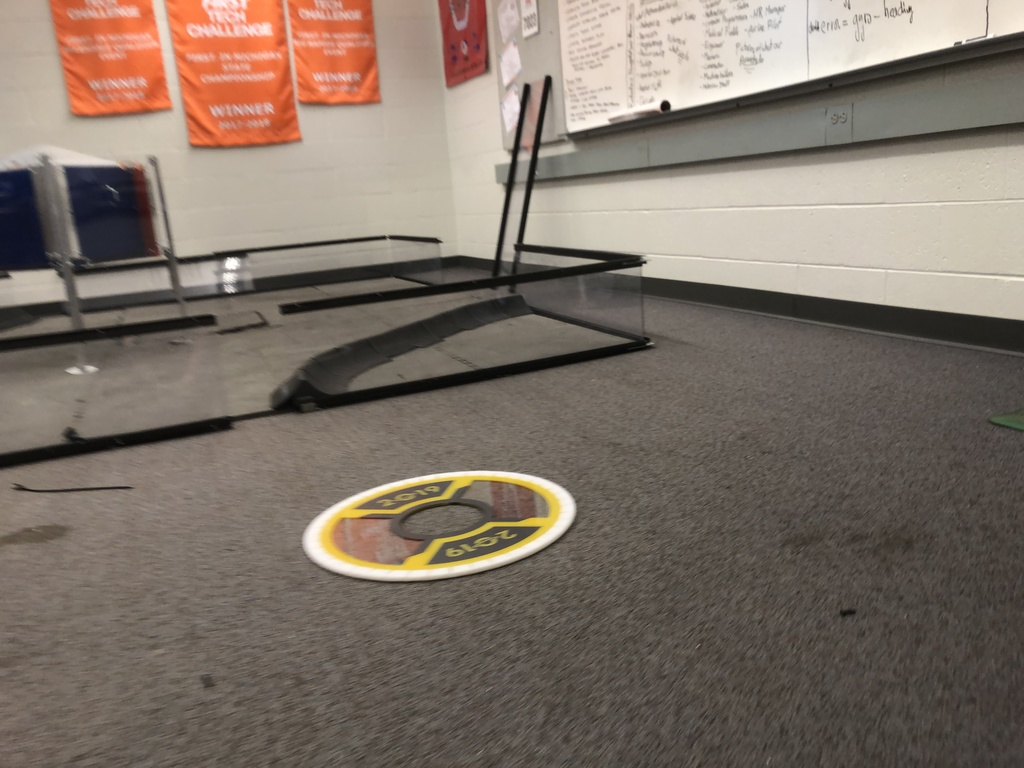hatch_panel: (289, 456, 597, 589)
